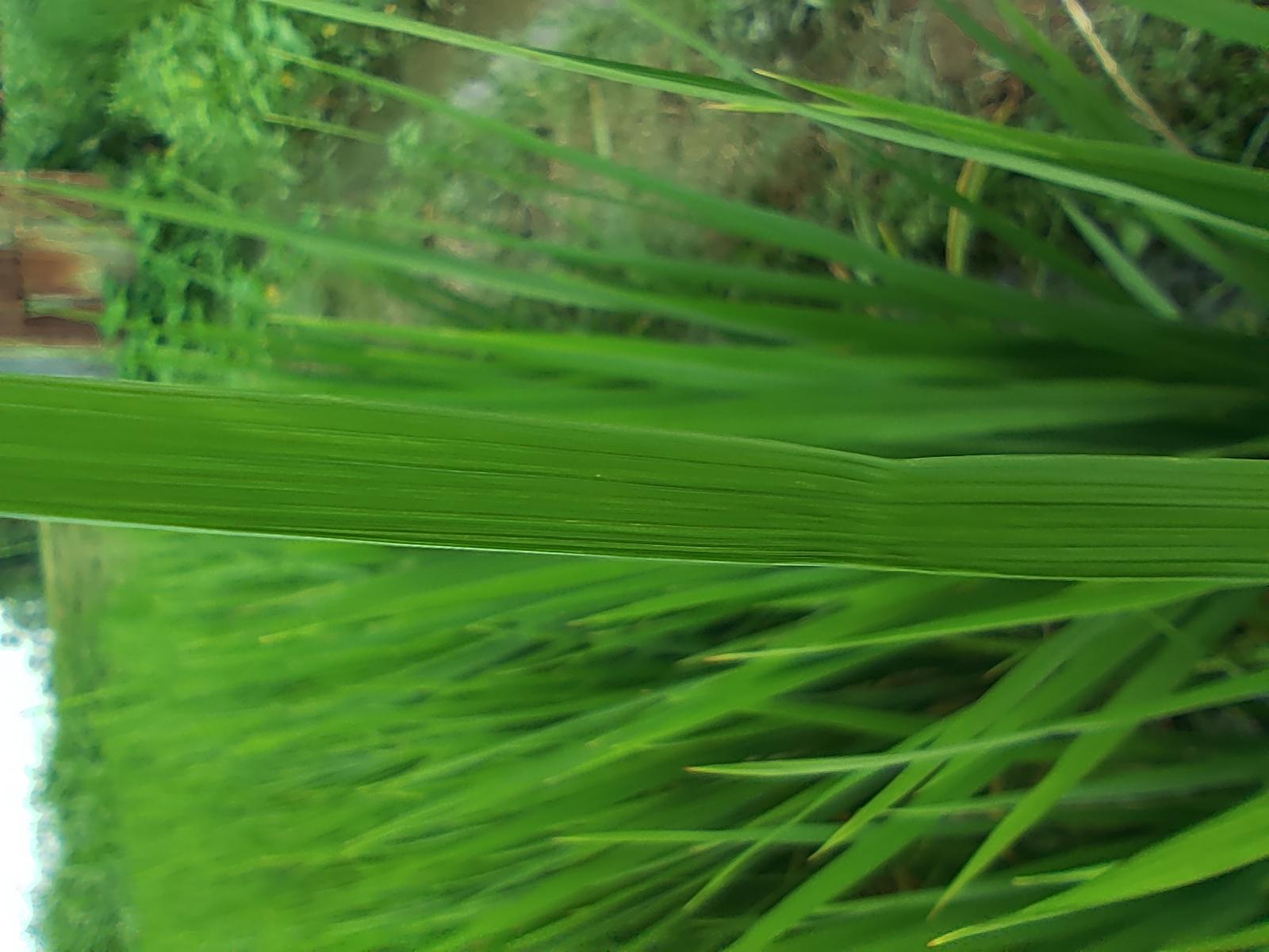Healthy: (494, 0, 766, 951)
